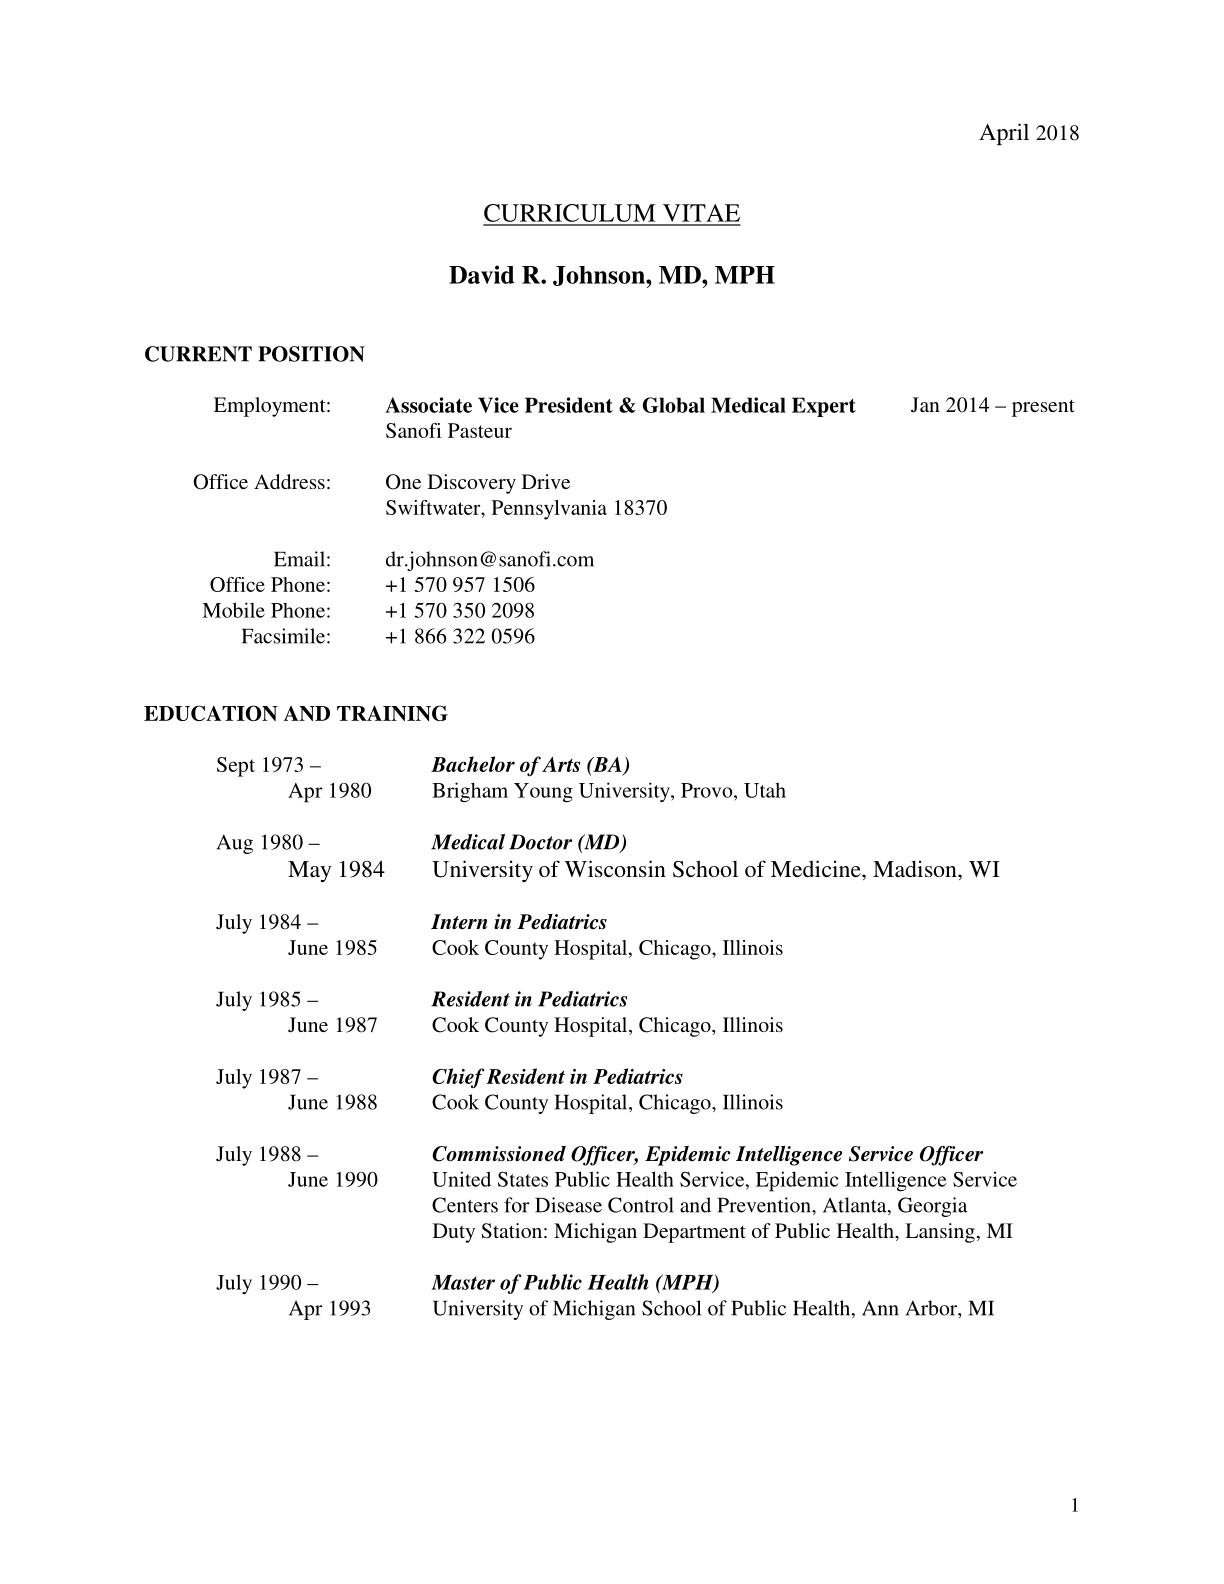nolines: (207, 747, 1020, 1320), (190, 391, 1085, 651)
